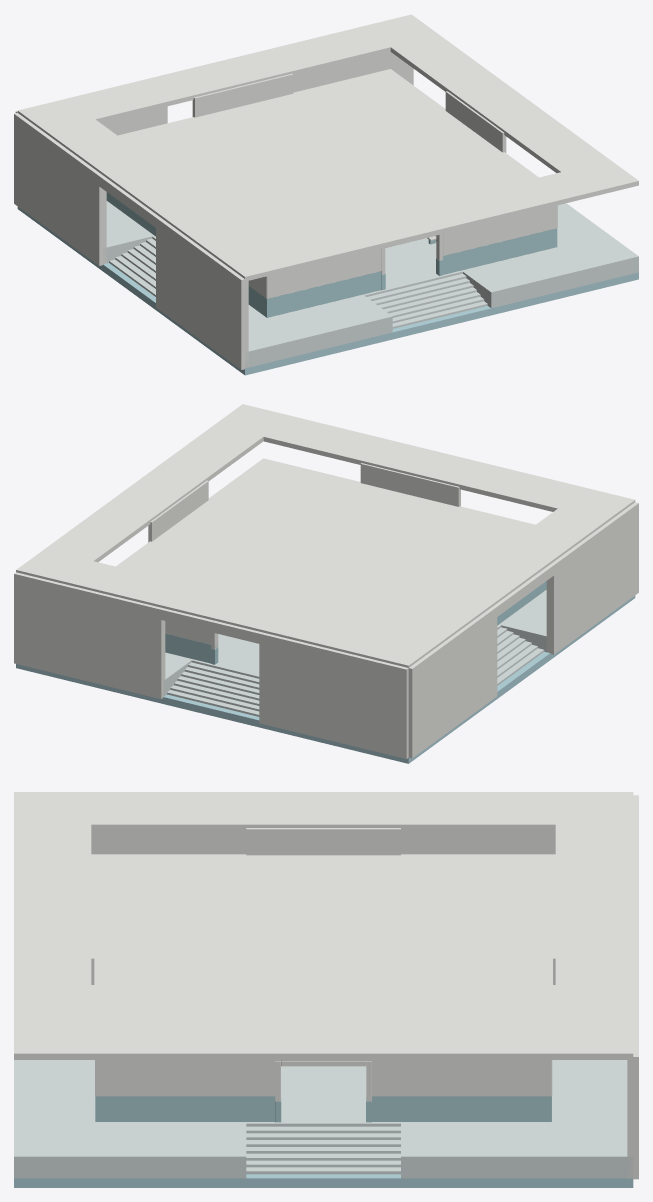
Rendered from shower_changing.glb.
3 renders of one model, top to bottom at view 1: azimuth 30°, elevation 25°; view 2: azimuth 150°, elevation 25°; view 3: azimuth 270°, elevation 25°, orthographic. The views are drawn at different scales.
Visible parts, largest first — view 1: VIS_formal_plaster, VIS_formal_dry_deck, VIS_formal_wainscot, VIS_formal_basin; view 2: VIS_formal_plaster, VIS_formal_dry_deck, VIS_formal_basin, VIS_formal_wainscot; view 3: VIS_formal_plaster, VIS_formal_dry_deck, VIS_formal_wainscot, VIS_formal_basin.
Boxes of the visible parts, x1=… form: VIS_formal_plaster: x1=14, y1=14, x2=638, y2=369; VIS_formal_dry_deck: x1=103, y1=201, x2=638, y2=368; VIS_formal_wainscot: x1=106, y1=192, x2=557, y2=317; VIS_formal_basin: x1=17, y1=206, x2=638, y2=375; VIS_formal_plaster: x1=14, y1=404, x2=638, y2=758; VIS_formal_dry_deck: x1=163, y1=590, x2=546, y2=716; VIS_formal_basin: x1=16, y1=595, x2=635, y2=763; VIS_formal_wainscot: x1=165, y1=581, x2=546, y2=664; VIS_formal_plaster: x1=14, y1=792, x2=638, y2=1179; VIS_formal_dry_deck: x1=14, y1=1060, x2=633, y2=1178; VIS_formal_wainscot: x1=95, y1=1096, x2=551, y2=1122; VIS_formal_basin: x1=14, y1=1174, x2=633, y2=1187.
Size of what is drawn, in the model's own units: 32.3 by 7.65 by 32.3.
